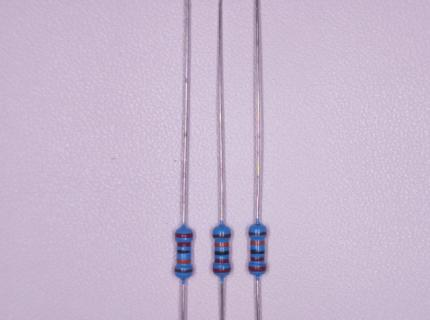Black band: (250, 249, 265, 254), (215, 251, 229, 256), (177, 250, 191, 254)
Brown band: (248, 231, 267, 236), (174, 268, 192, 273), (213, 234, 231, 238)
Orange band: (176, 259, 190, 264), (215, 242, 229, 247), (250, 241, 264, 245)
Red band: (175, 232, 193, 238), (248, 266, 266, 272), (213, 268, 231, 273), (214, 258, 230, 263), (250, 257, 265, 262), (177, 243, 191, 247)
